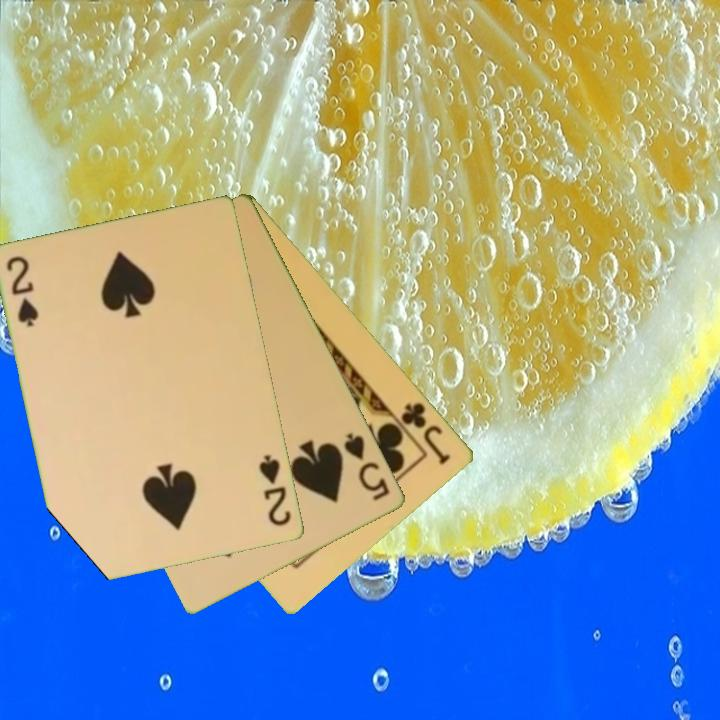2s: (256, 451, 295, 529), (3, 253, 42, 330)
5s: (341, 429, 394, 504)
Jc: (398, 398, 454, 468)
